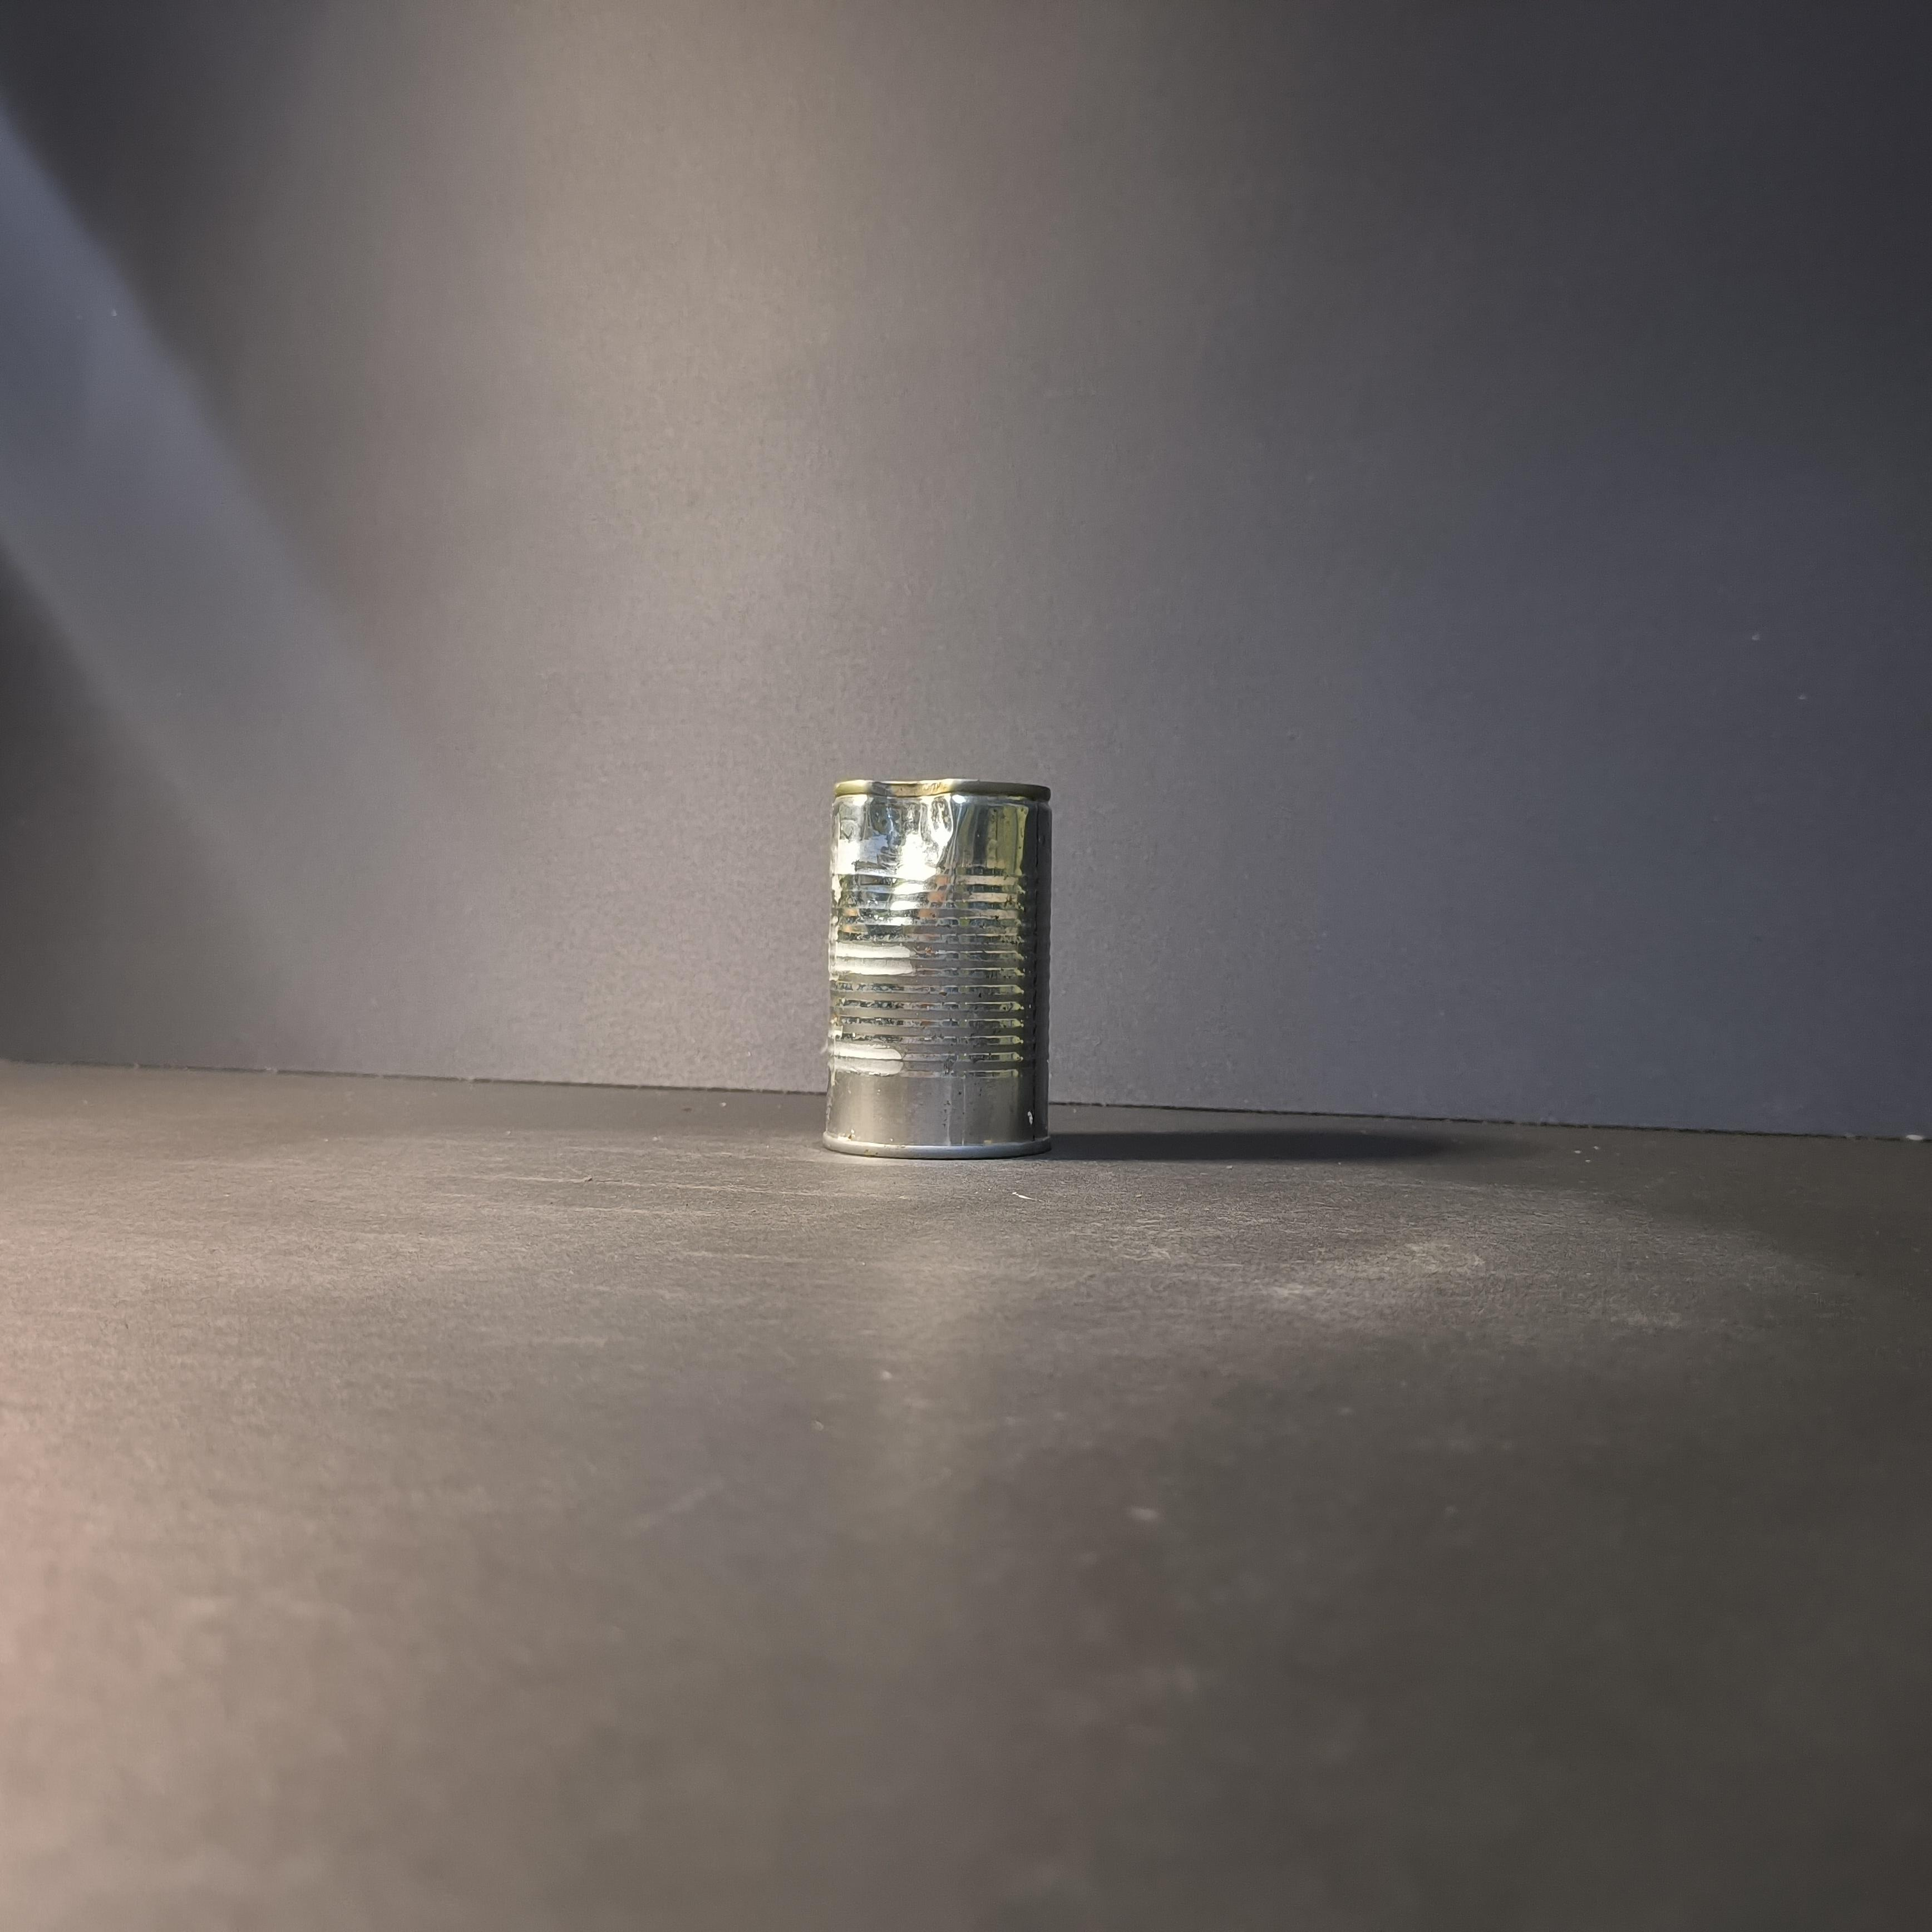Dented: (810, 759, 1063, 1180)
